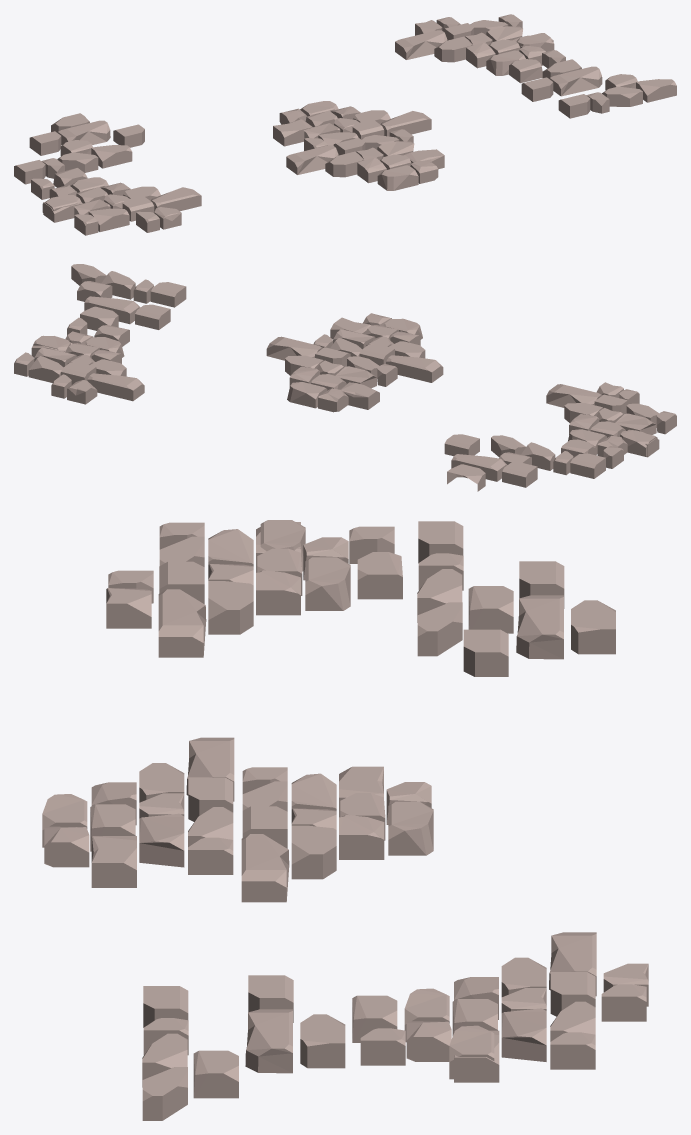
The model's file is 3D-CaminoPiedras.fbx.
3 views of the same model, one above another, from view 1: azimuth 30°, elevation 25°; view 2: azimuth 150°, elevation 25°; view 3: azimuth 270°, elevation 25° (orthographic). The views are drawn at different scales.
Parts seen in each view (by area): view 1: CaminoPiedras; view 2: CaminoPiedras; view 3: CaminoPiedras.
Boxes of the visible parts, <box> form: CaminoPiedras: <box>14,14,676,235</box>; CaminoPiedras: <box>14,264,676,491</box>; CaminoPiedras: <box>42,520,648,1120</box>.
Bounding box in the file's own units: 2043 × 60.17 × 903.
